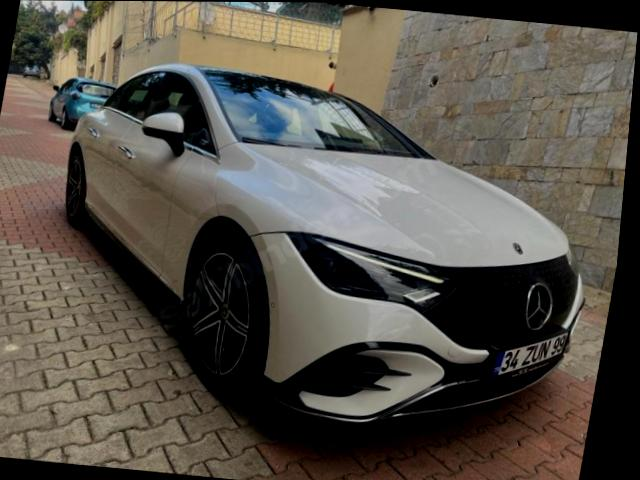plaka: (491, 332, 567, 378)
